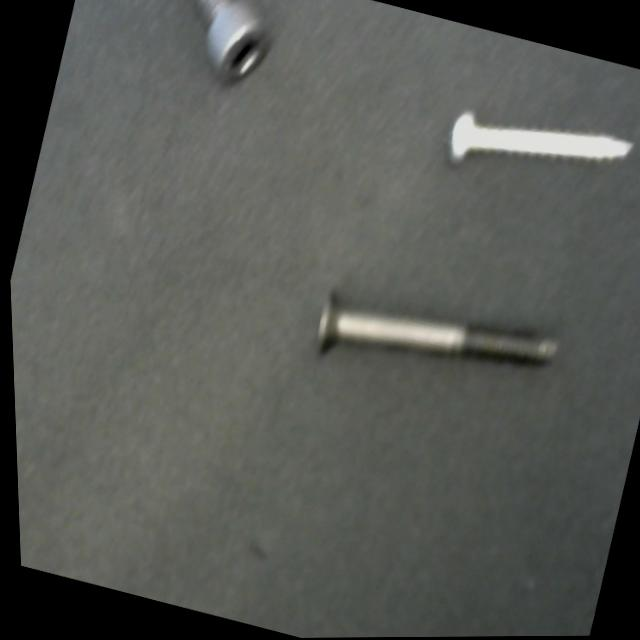FlatHeadSocketScrew: (294, 241, 579, 427)
SheetMetalScrew: (432, 72, 640, 215)
SocketHeadCapScrew: (130, 0, 297, 114)
